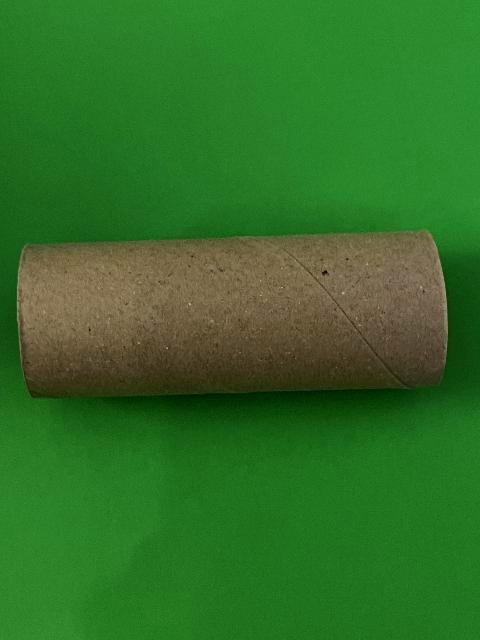tissueroll: (16, 227, 450, 403)
